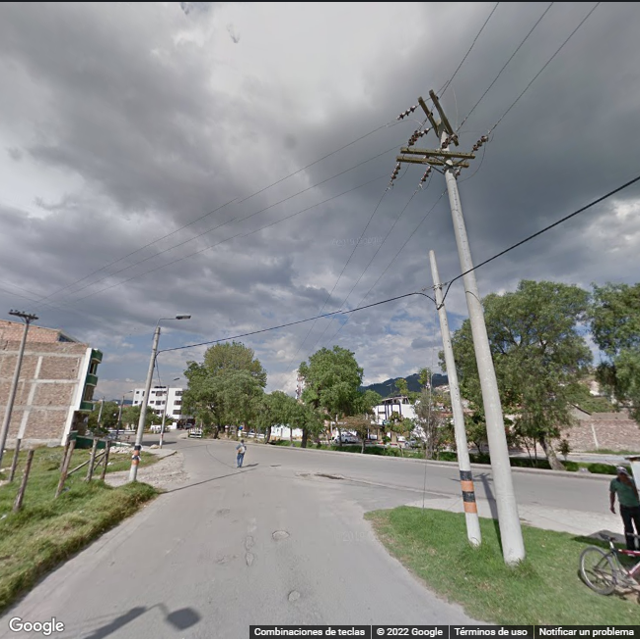D00: (240, 515, 254, 570)
D40: (274, 583, 310, 603), (266, 528, 309, 539)
